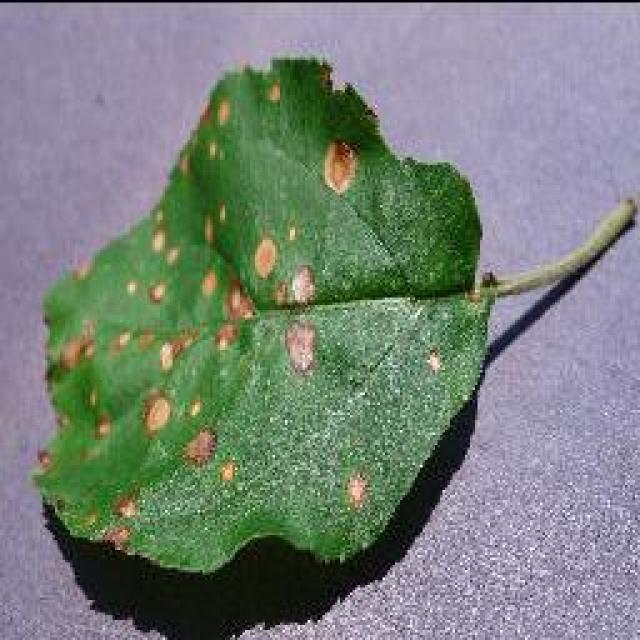Black_rot: (30, 52, 638, 578)
